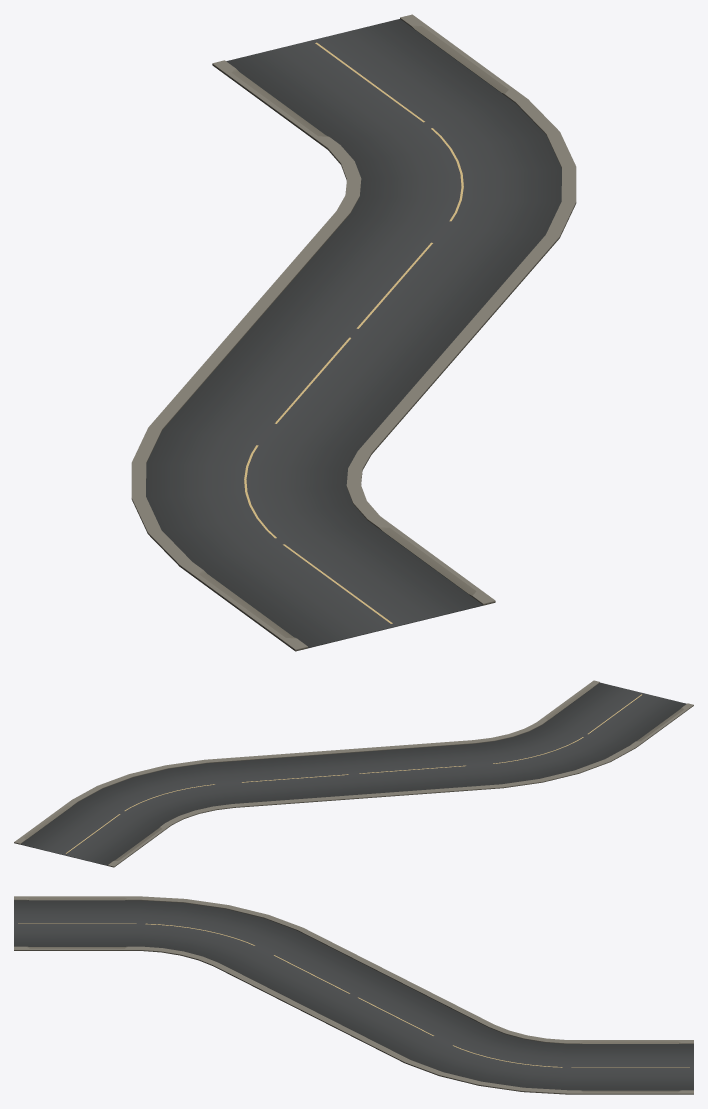
The model's file is Runway_Addon_1D.fbx.
The picture shows the model from 3 angles, top to bottom: view 1: azimuth 30°, elevation 25°; view 2: azimuth 150°, elevation 25°; view 3: azimuth 270°, elevation 25°; orthographic projection. The views are drawn at different scales.
Parts seen in each view (by area): view 1: Runway_Addon_1D; view 2: Runway_Addon_1D; view 3: Runway_Addon_1D.
Part boxes in pixels (x1,y1,x2,y2): Runway_Addon_1D: [131, 14, 576, 651]; Runway_Addon_1D: [14, 680, 693, 867]; Runway_Addon_1D: [14, 896, 693, 1094].
Bounding box in the file's own units: 11800 × 30 × 17200.
